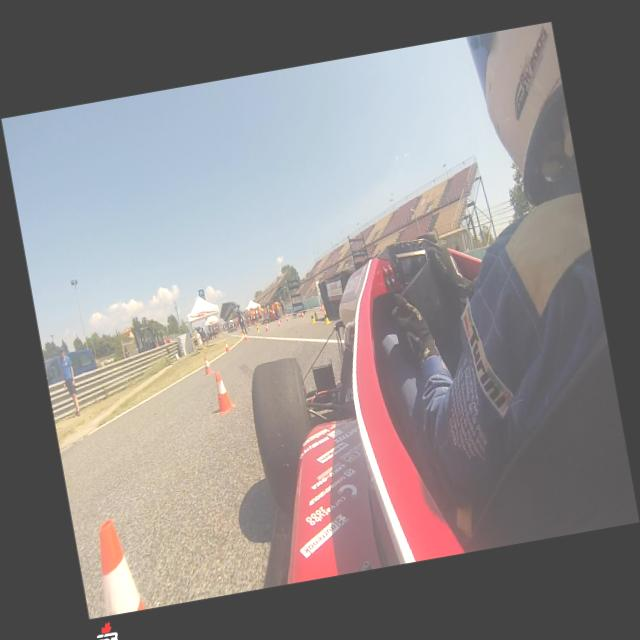orange_cone: (90, 518, 144, 616), (210, 369, 234, 414), (202, 355, 212, 375), (223, 340, 230, 352), (244, 332, 248, 341), (264, 324, 268, 332), (277, 319, 281, 326), (300, 311, 304, 318), (285, 316, 288, 322)
yellow_cone: (322, 310, 330, 324), (309, 312, 315, 324), (313, 310, 318, 320), (256, 324, 260, 332)
